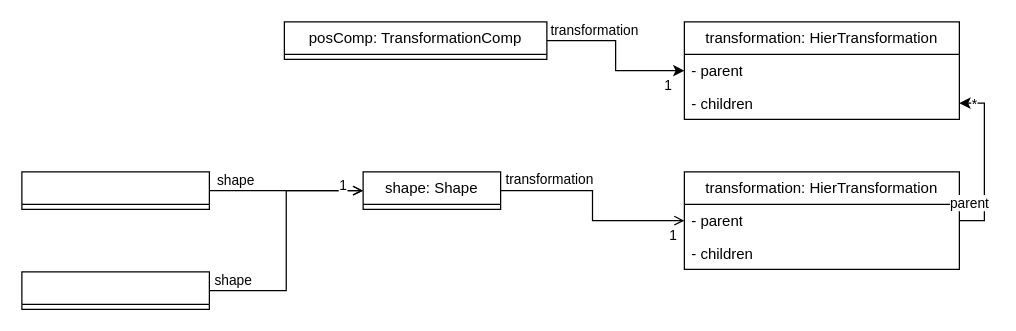
Image size: 1016x331. Some labels were removed from this diagram. The shapes that lost their labels are listed below. From the top down, each one's box as (x1, y1, x2, y2) in pixels, then its label:
(21, 171, 209, 209): drawComp: Drawable
(21, 271, 209, 309): collisionComp: Collision
